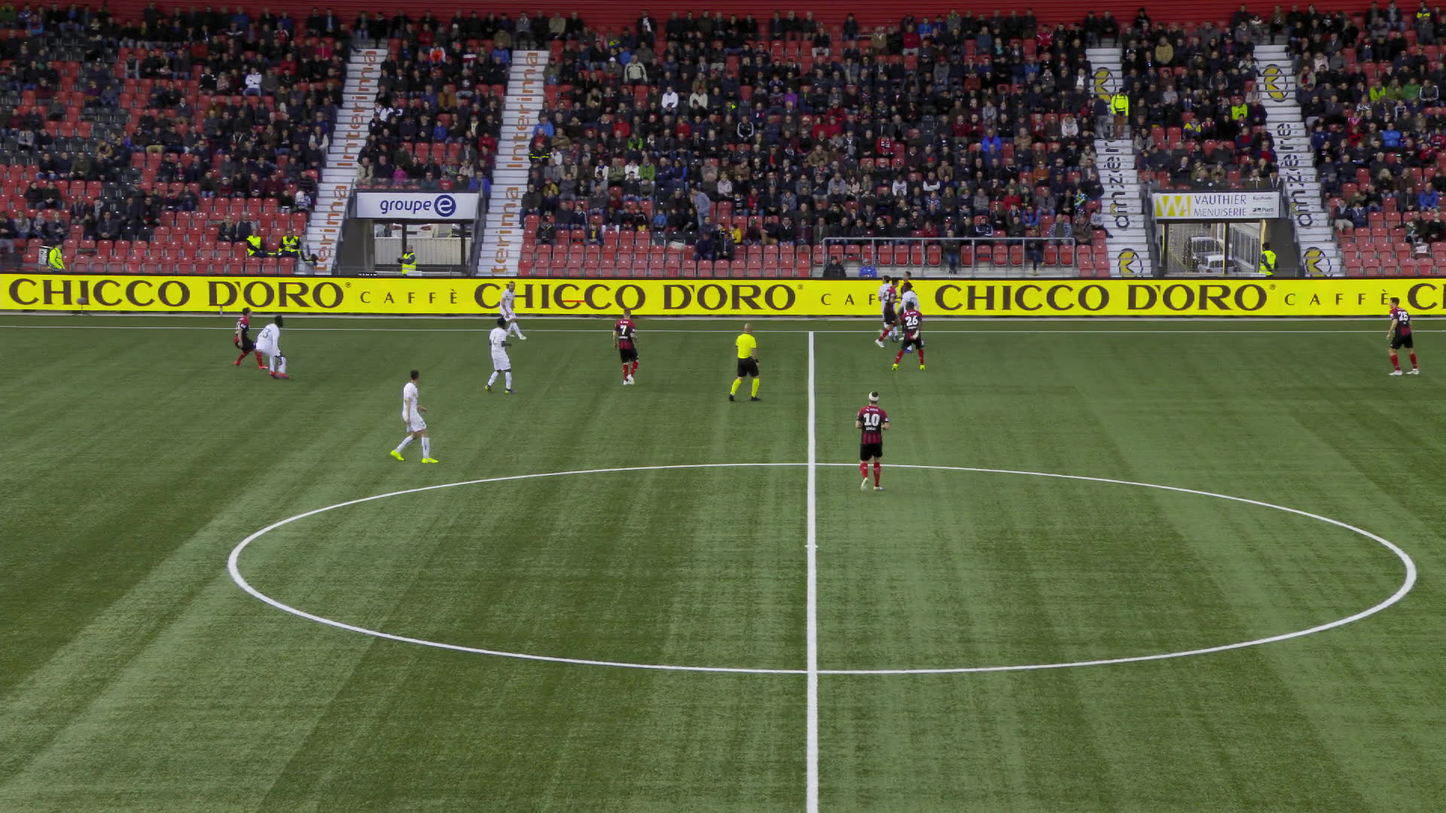ball: (688, 245, 706, 255)
player: (392, 367, 434, 461), (856, 390, 889, 494), (1383, 297, 1420, 375), (892, 297, 926, 370), (257, 314, 291, 381), (233, 303, 267, 368), (612, 309, 641, 385), (868, 275, 902, 339), (488, 318, 515, 394), (899, 283, 928, 352), (496, 279, 521, 338), (895, 271, 915, 330), (882, 279, 898, 340)
referee: (728, 323, 764, 401)
